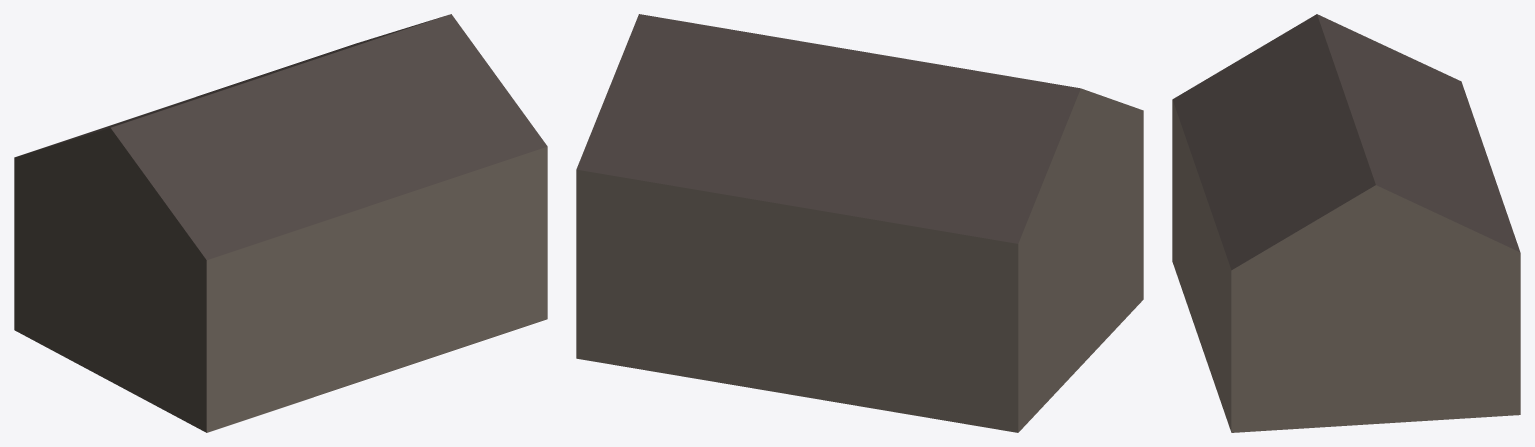
3 views of the same model, side by side, from view 1: azimuth 30°, elevation 25°; view 2: azimuth 150°, elevation 25°; view 3: azimuth 270°, elevation 25° (orthographic). The views are drawn at different scales.
Parts seen in each view (by area): view 1: HP-w1200756569; view 2: HP-w1200756569; view 3: HP-w1200756569.
Boxes of the visible parts, bbox=[...] form: HP-w1200756569: bbox=[14, 14, 547, 432]; HP-w1200756569: bbox=[576, 14, 1143, 432]; HP-w1200756569: bbox=[1172, 14, 1520, 432].
Size of the model in its own units: 14.96 by 8.82 by 11.64.
